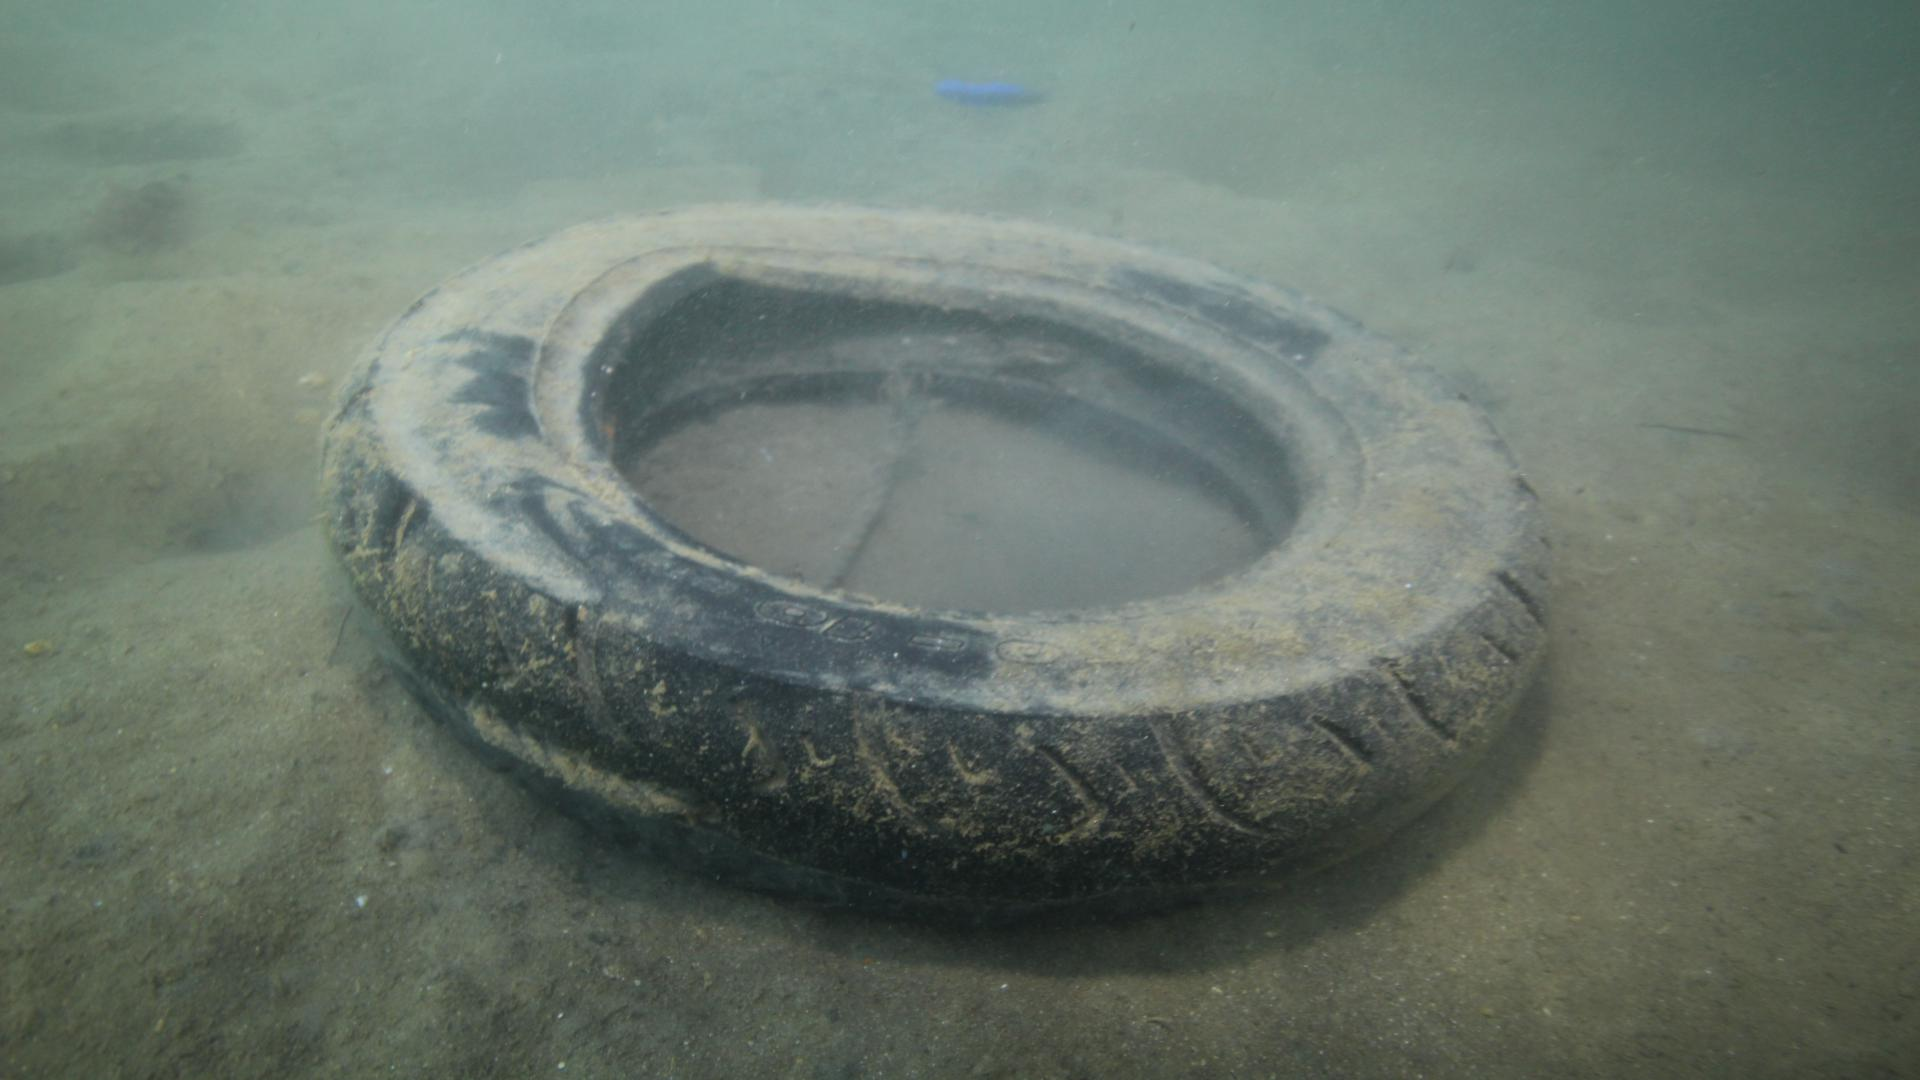rope: (808, 414, 911, 589)
tire: (315, 196, 1551, 926)
